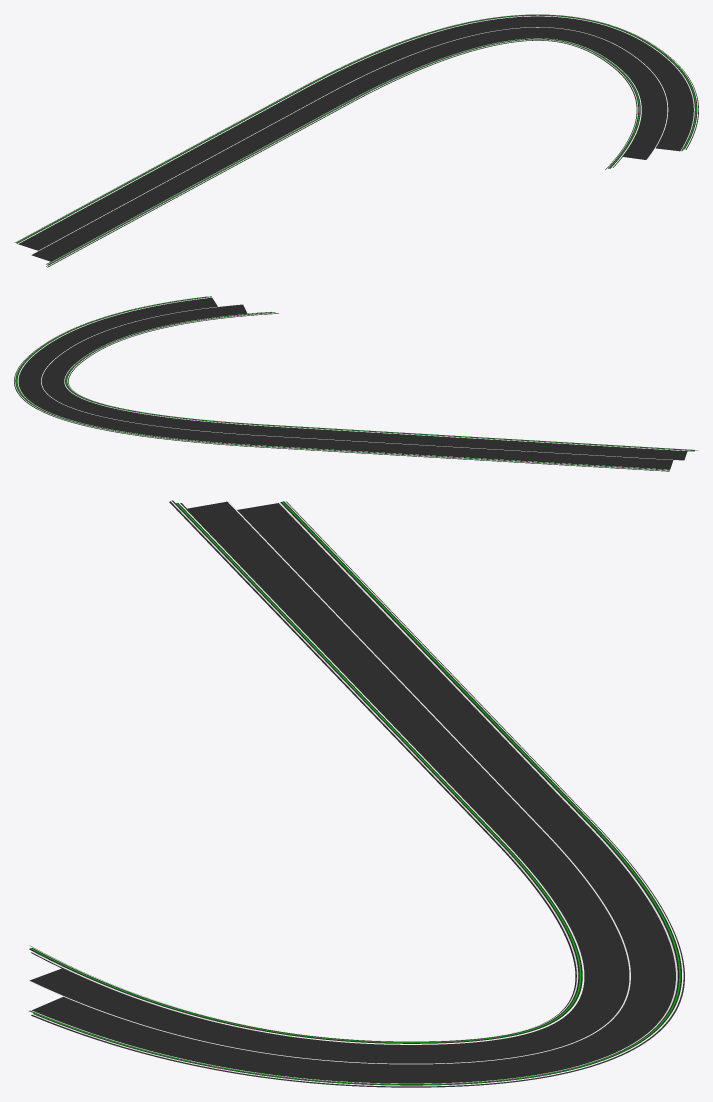
Rendered from Spa.Short.01.glb.
The picture shows the model from 3 angles, top to bottom: view 1: azimuth 30°, elevation 25°; view 2: azimuth 150°, elevation 25°; view 3: azimuth 270°, elevation 25°; orthographic projection. The views are drawn at different scales.
Visible parts, largest first — view 1: Track.001; view 2: Track.001; view 3: Track.001.
Boxes of the visible parts, left/top/right/bottom form: Track.001: left=14, top=14, right=698, bottom=267; Track.001: left=14, top=296, right=698, bottom=471; Track.001: left=28, top=500, right=684, bottom=1087.
Bounding box in the file's own units: 190 × 0.1549 × 89.88.
